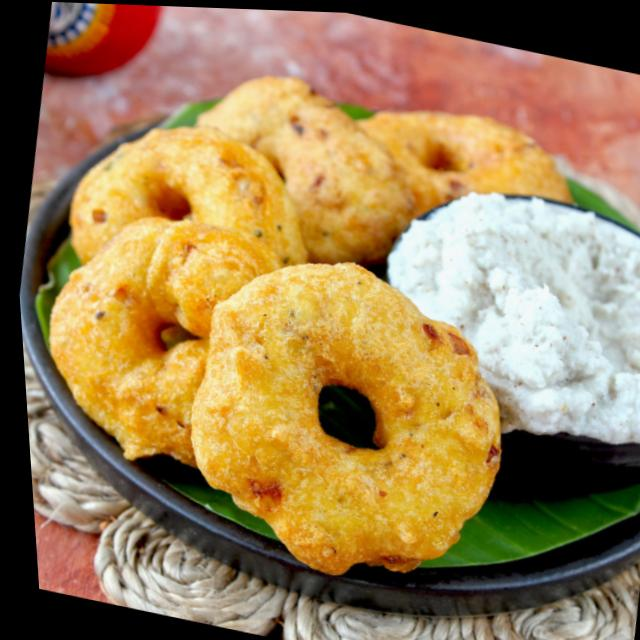VADA: (46, 71, 583, 577)
WHITE CHUTNEY: (387, 193, 640, 442)
